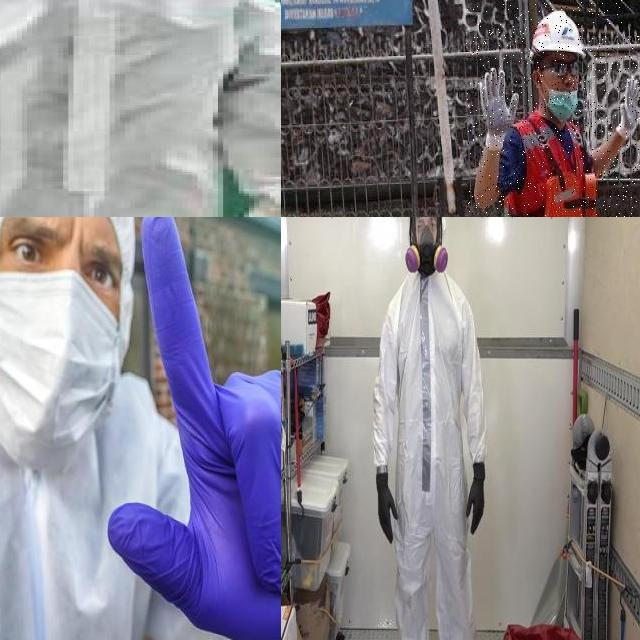GLASS: (534, 60, 580, 77)
GLOVE: (478, 68, 521, 148), (374, 469, 398, 546), (464, 461, 486, 537), (617, 77, 640, 137)
Glove: (106, 217, 281, 640)
HELMET: (528, 10, 585, 57)
MASK: (0, 270, 119, 467)
VEST: (503, 109, 600, 217)
